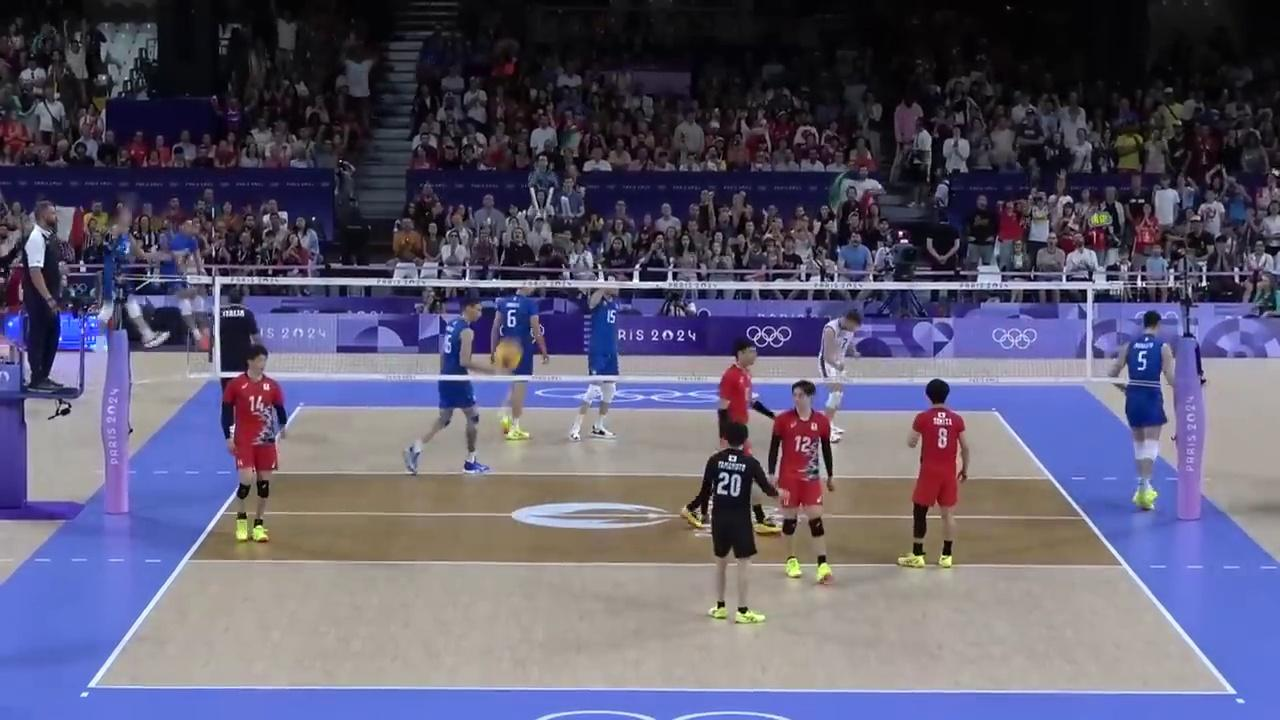ball: (496, 341, 519, 369)
